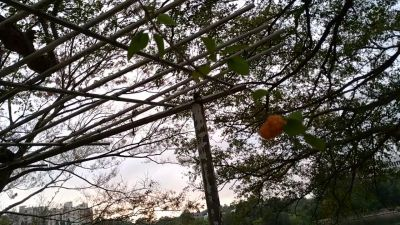eggs: (259, 113, 286, 139)
